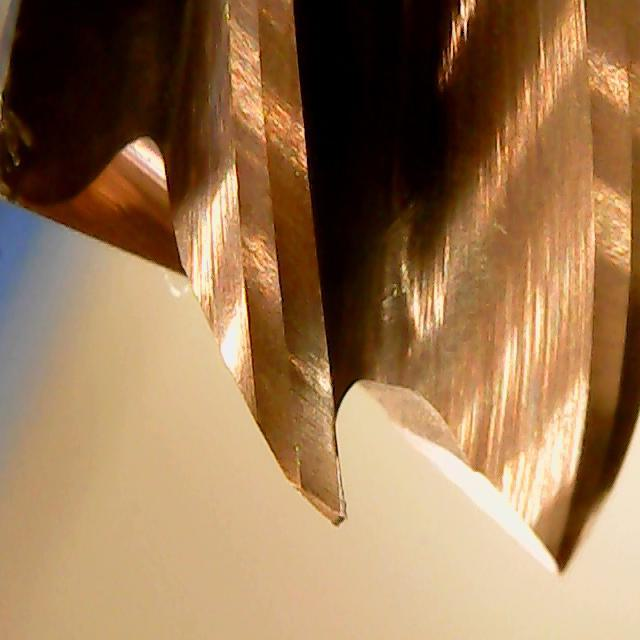Tool-wear-class-1: (219, 318, 353, 533)
